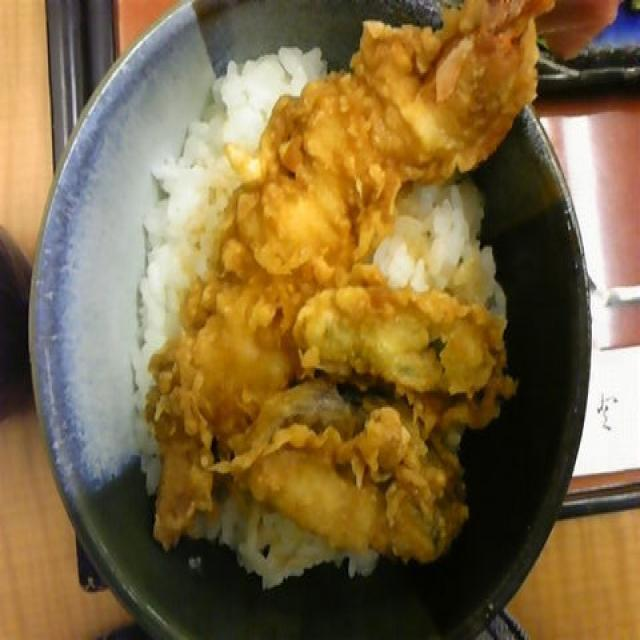熟制海鲜: (0, 44, 480, 640)
